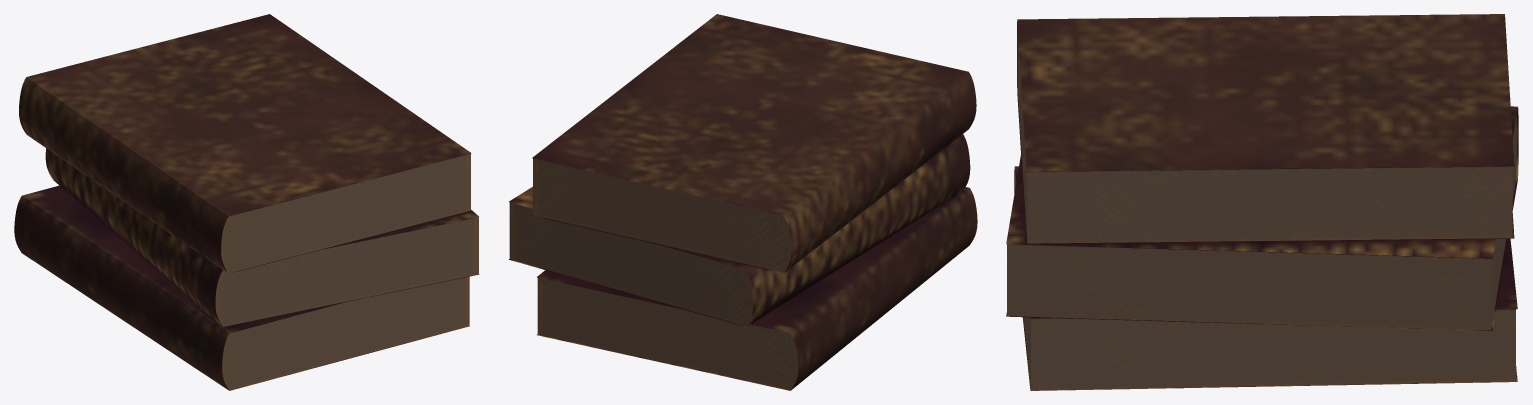
Rendered from SM_BookPile14.fbx.
The picture shows the model from 3 angles, left to right: view 1: azimuth 30°, elevation 25°; view 2: azimuth 150°, elevation 25°; view 3: azimuth 270°, elevation 25°; orthographic projection. The views are drawn at different scales.
Visible parts, largest first — view 1: SM_BookPile14_LOD0; view 2: SM_BookPile14_LOD0; view 3: SM_BookPile14_LOD0.
Part boxes in pixels (bbox=[...]): SM_BookPile14_LOD0: bbox=[14, 14, 479, 390]; SM_BookPile14_LOD0: bbox=[509, 14, 977, 390]; SM_BookPile14_LOD0: bbox=[1006, 14, 1518, 390].
Bounding box in the file's own units: 38.62 × 46.47 × 21.94.
Materials: 1 (1 with a texture image).
